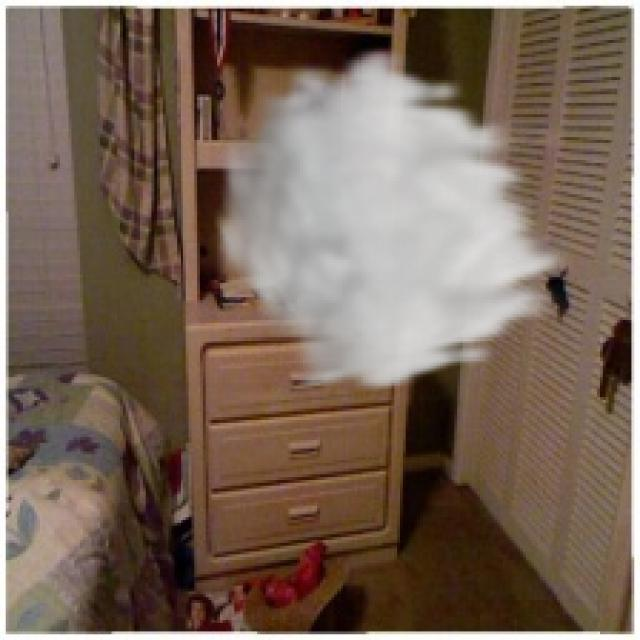smoke: (209, 43, 580, 394)
